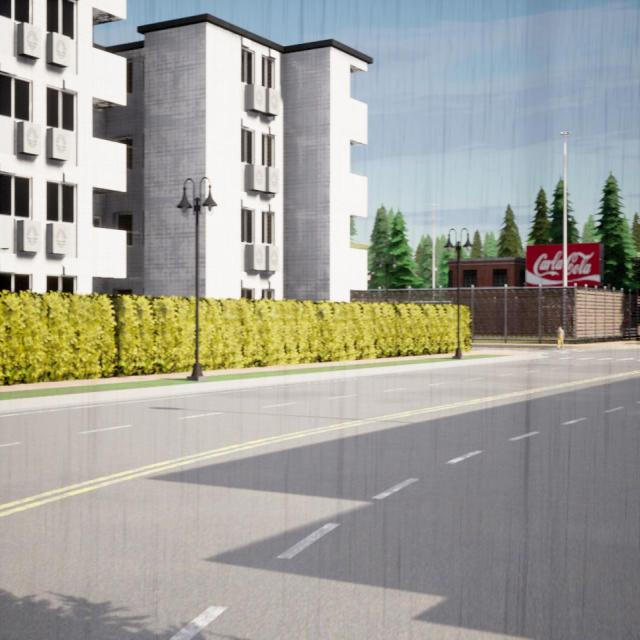Pedestrian: (557, 326, 564, 349)
